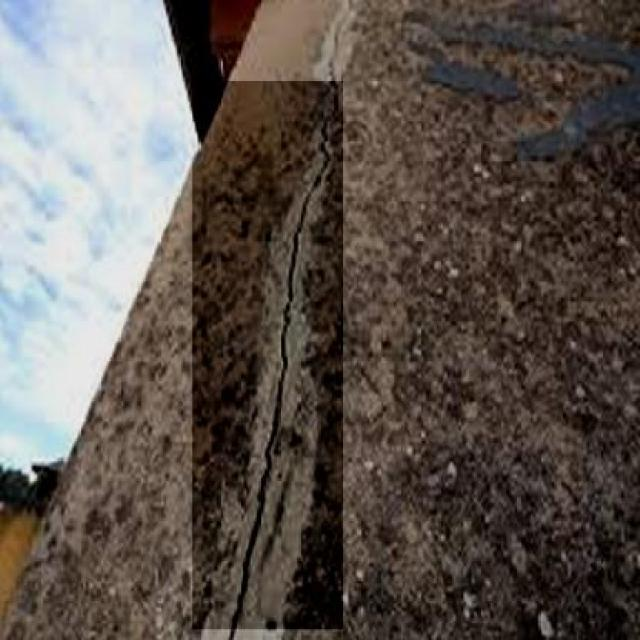Crack: (200, 19, 374, 639)
